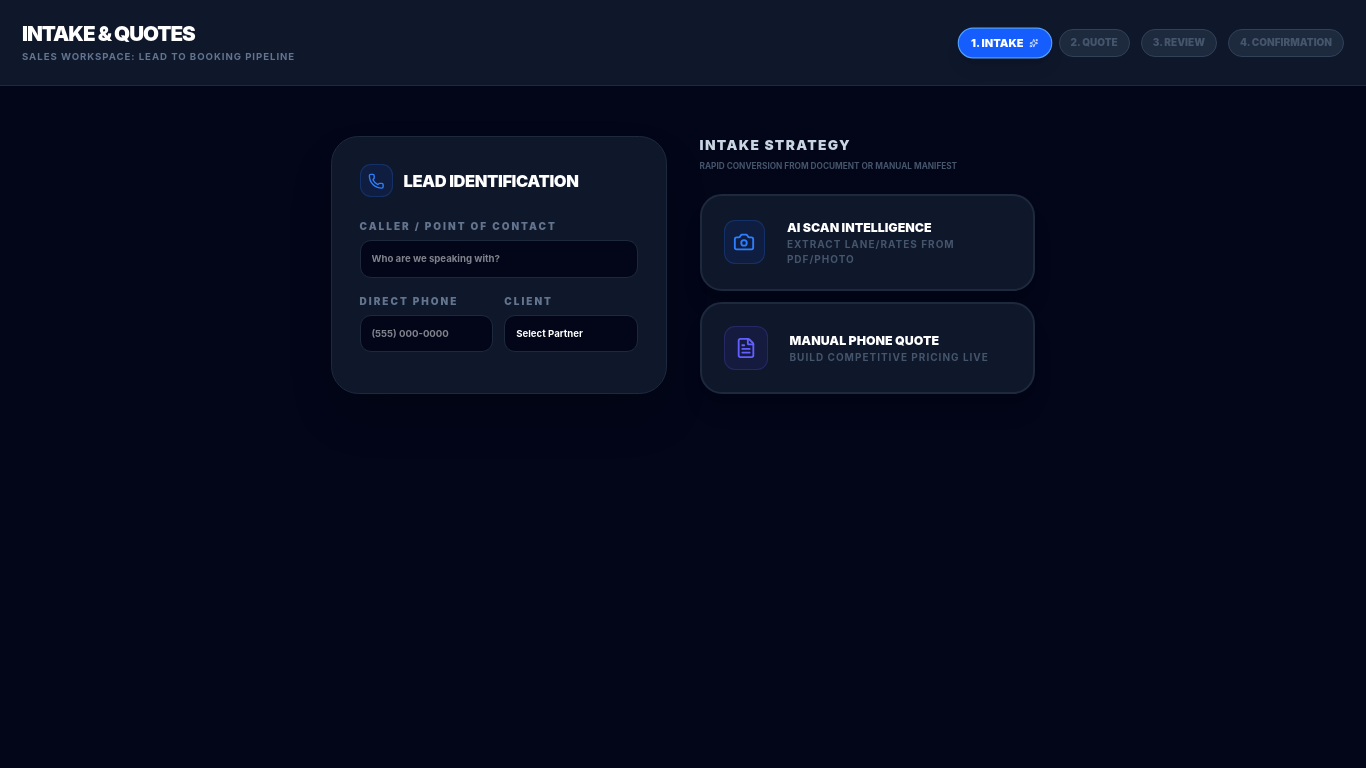
Test case: BookingPortal coverage — review/confirmation steps › renders fuel surcharge input and updates total
The width and height of the screenshot is (1366, 768).
Step 1. Click the heading "Manual Phone Quote" → [864, 340], box [790,333,939,348]
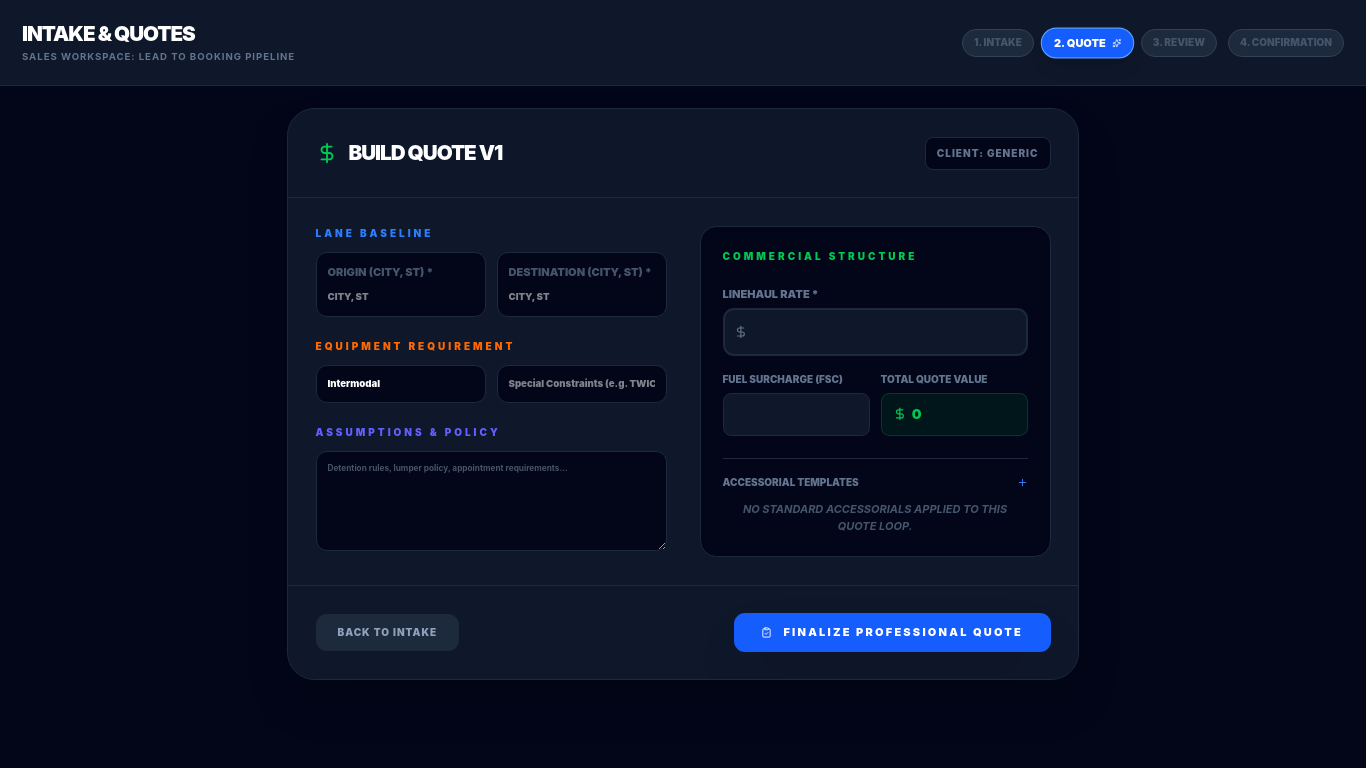
Expected: the text "Fuel Surcharge (FSC)" is shown, [722,373,843,385]
